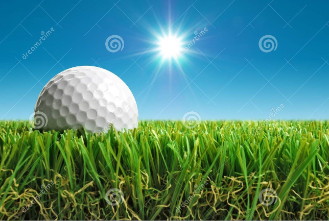ball: (29, 63, 153, 151)
